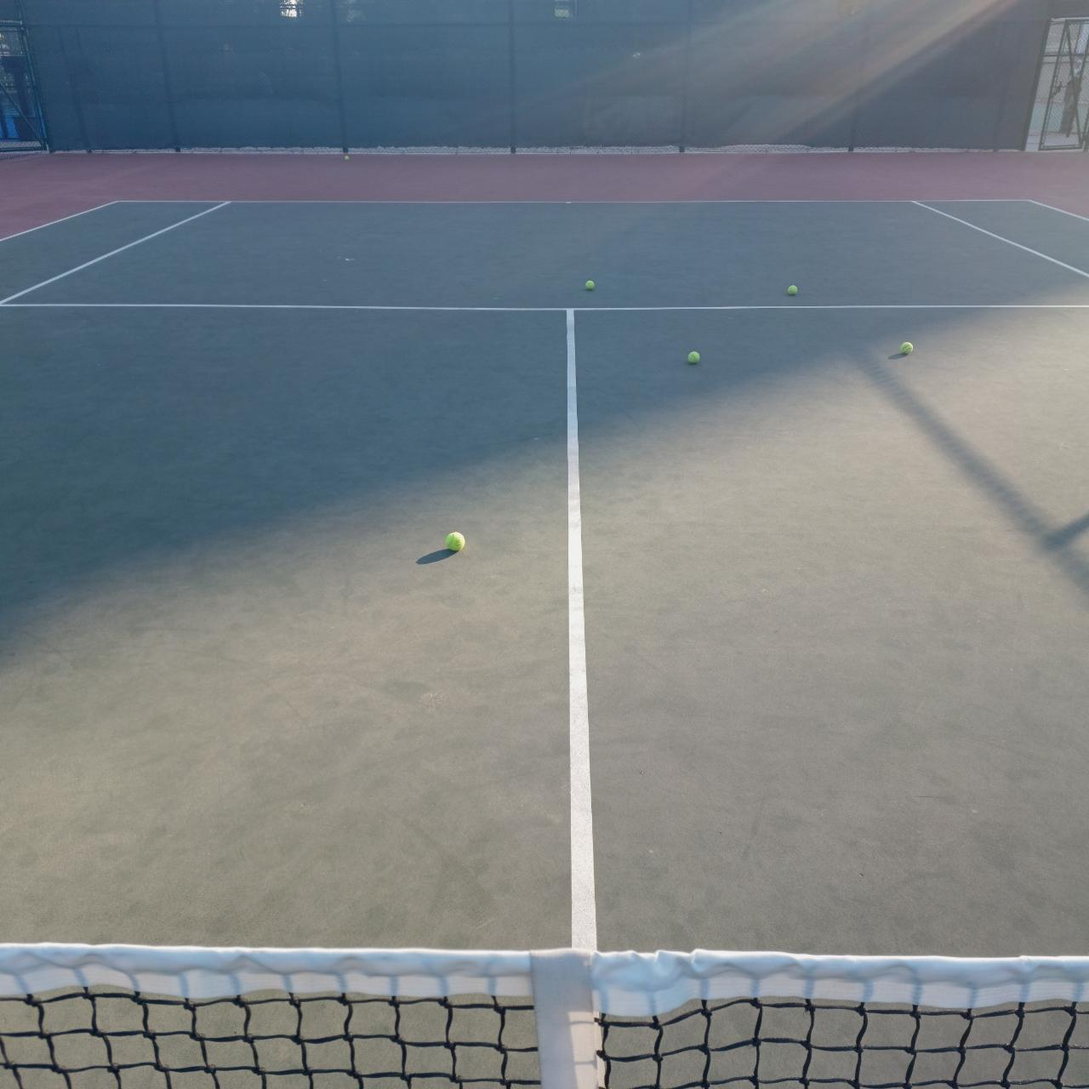tennis-ball: (446, 531, 465, 553), (900, 341, 913, 355), (687, 351, 700, 364), (787, 284, 799, 295), (585, 280, 595, 291), (345, 155, 349, 160)
